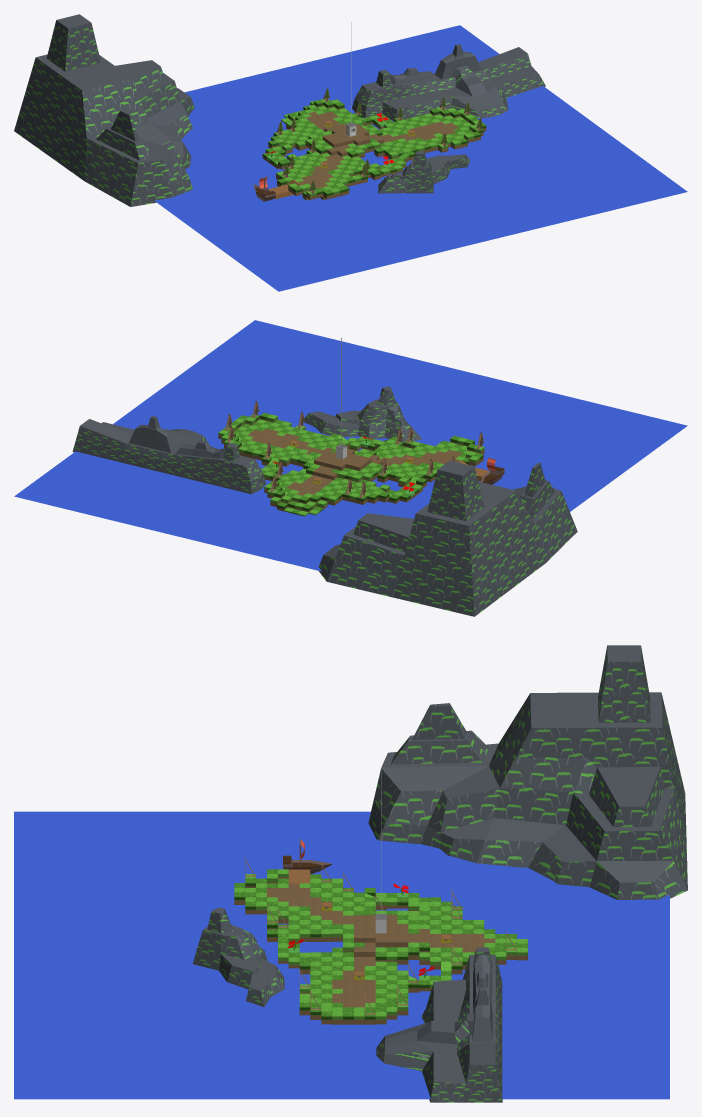
The model's file is Level 4.fbx.
3 views of the same model, one above another, from view 1: azimuth 30°, elevation 25°; view 2: azimuth 150°, elevation 25°; view 3: azimuth 270°, elevation 25° (orthographic). The views are drawn at different scales.
Visible parts, largest first — view 1: Land, Mountain.002, Mountain, Mountain.001; view 2: Land, Mountain.002, Mountain, Mountain.001; view 3: Land, Mountain.002, Mountain, Mountain.001.
Boxes of the visible parts, x1,y1,x2,y2 form: Land: (154,25,687,291); Mountain.002: (14,14,194,206); Mountain: (352,44,545,120); Mountain.001: (378,151,469,193); Land: (14,320,687,571); Mountain.002: (319,460,577,616); Mountain: (72,416,265,494); Mountain.001: (304,386,421,442); Land: (14,811,669,1099); Mountain.002: (368,645,687,899); Mountain: (376,947,502,1102); Mountain.001: (193,907,284,1006).
Size of the model in its own units: 13559 by 3860 by 12398.
